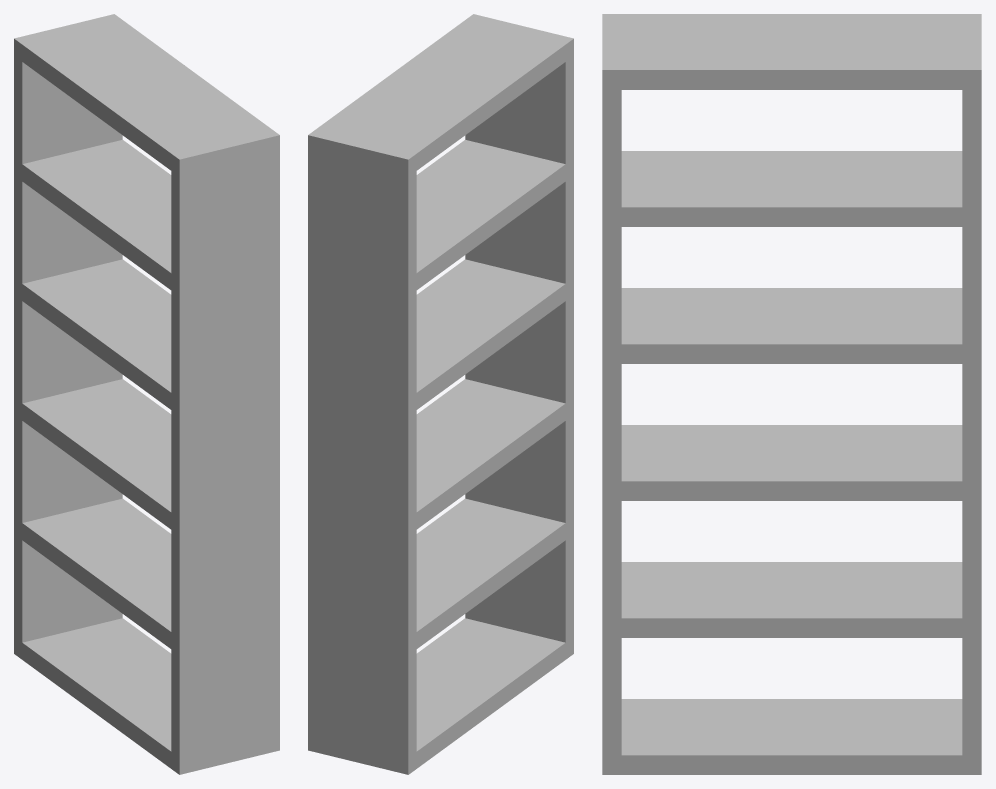
File: Shelf_1.fbx
The picture shows the model from 3 angles, left to right: view 1: azimuth 30°, elevation 25°; view 2: azimuth 150°, elevation 25°; view 3: azimuth 270°, elevation 25°; orthographic projection. The views are drawn at different scales.
Visible parts, largest first — view 1: Shelf_1; view 2: Shelf_1; view 3: Shelf_1.
Boxes of the visible parts, x1,y1,x2,y2 form: Shelf_1: (14,14,279,774); Shelf_1: (308,14,573,774); Shelf_1: (602,14,981,774).
Bounding box in the file's own units: 0.2666 × 1.56 × 0.7608.
